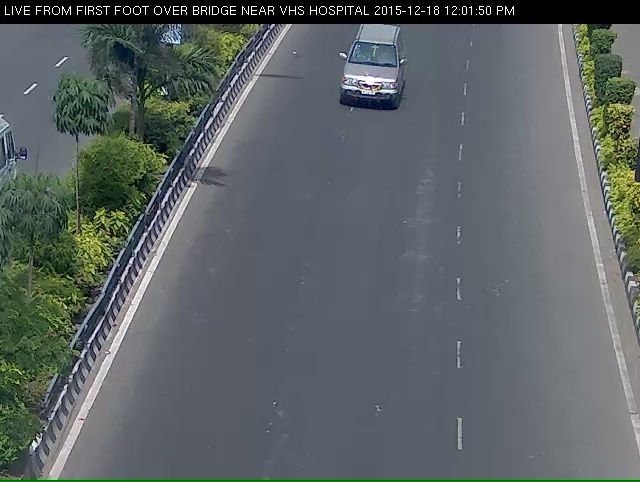Car: (329, 28, 411, 121)
